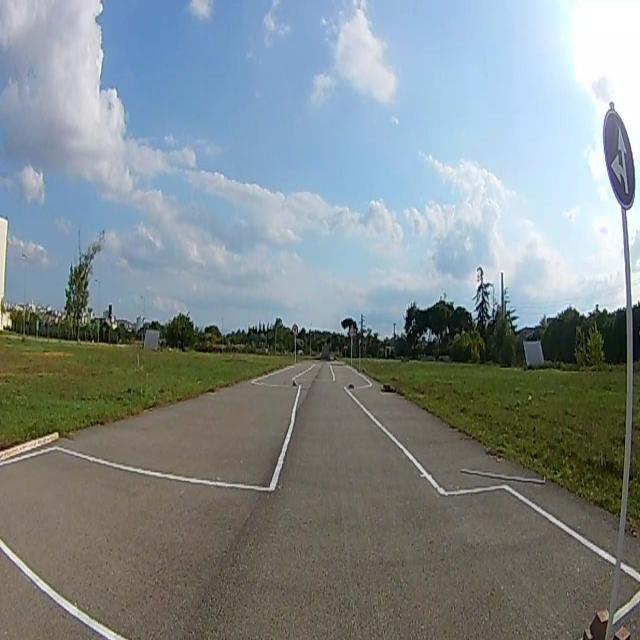ilerisol: (602, 111, 634, 203)
